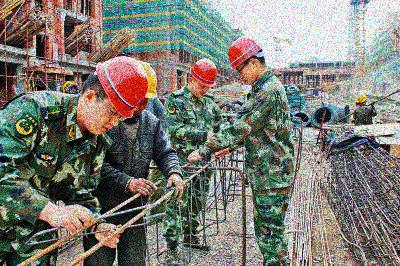helmet: (76, 56, 148, 139), (227, 36, 266, 87), (131, 57, 159, 119), (187, 57, 219, 101), (356, 92, 367, 106)
